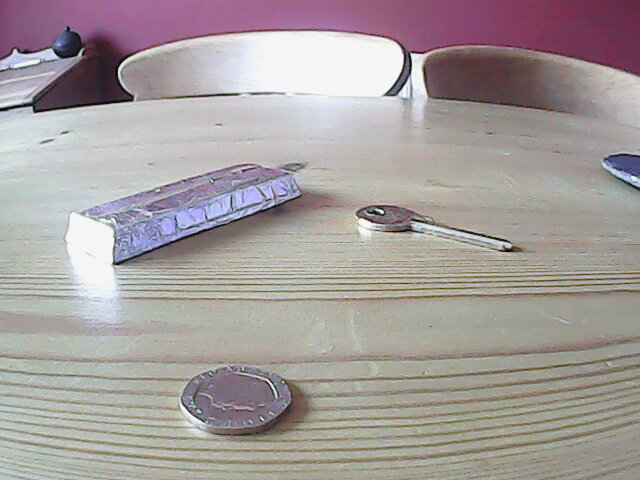Coin: (179, 361, 295, 437)
Foil: (61, 159, 306, 265)
Key: (349, 200, 515, 255)
